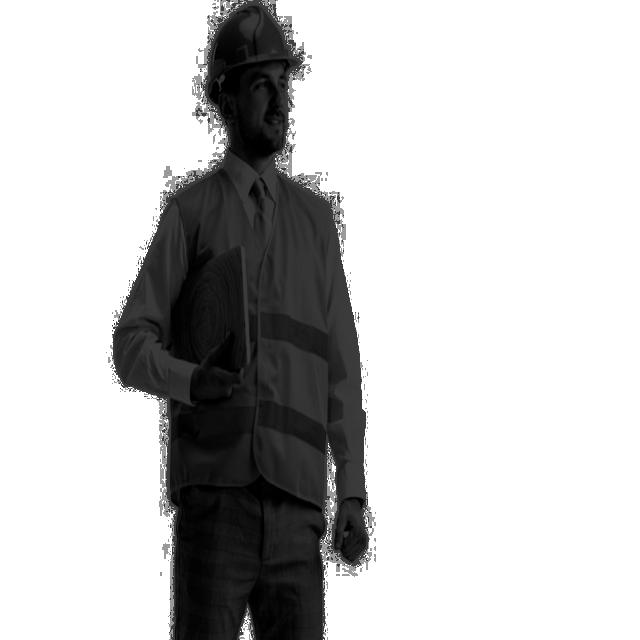1 casque: (185, 5, 323, 166)
2 gilet: (70, 0, 429, 640), (123, 168, 380, 567)
